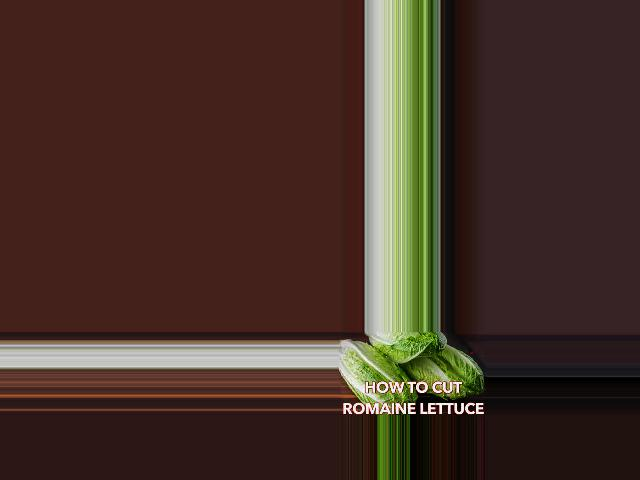lettuce: (395, 339, 487, 406)
